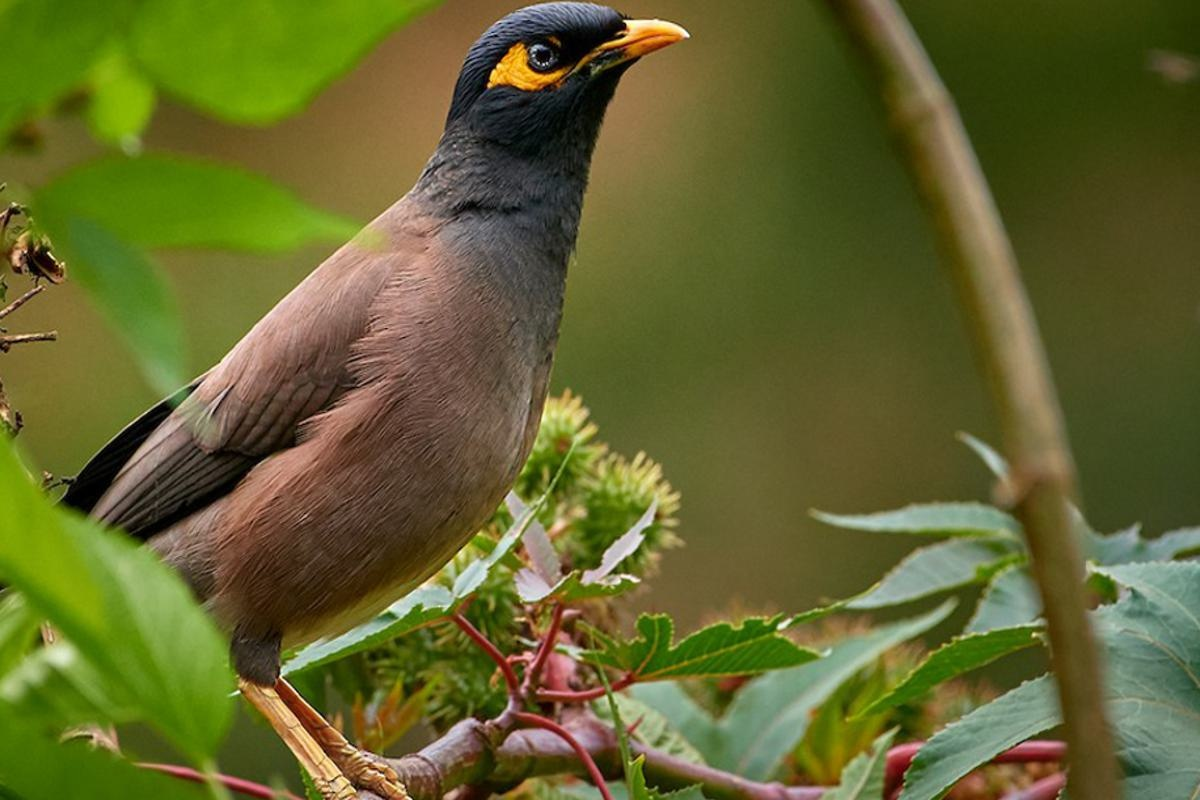myna: (136, 10, 708, 635)
